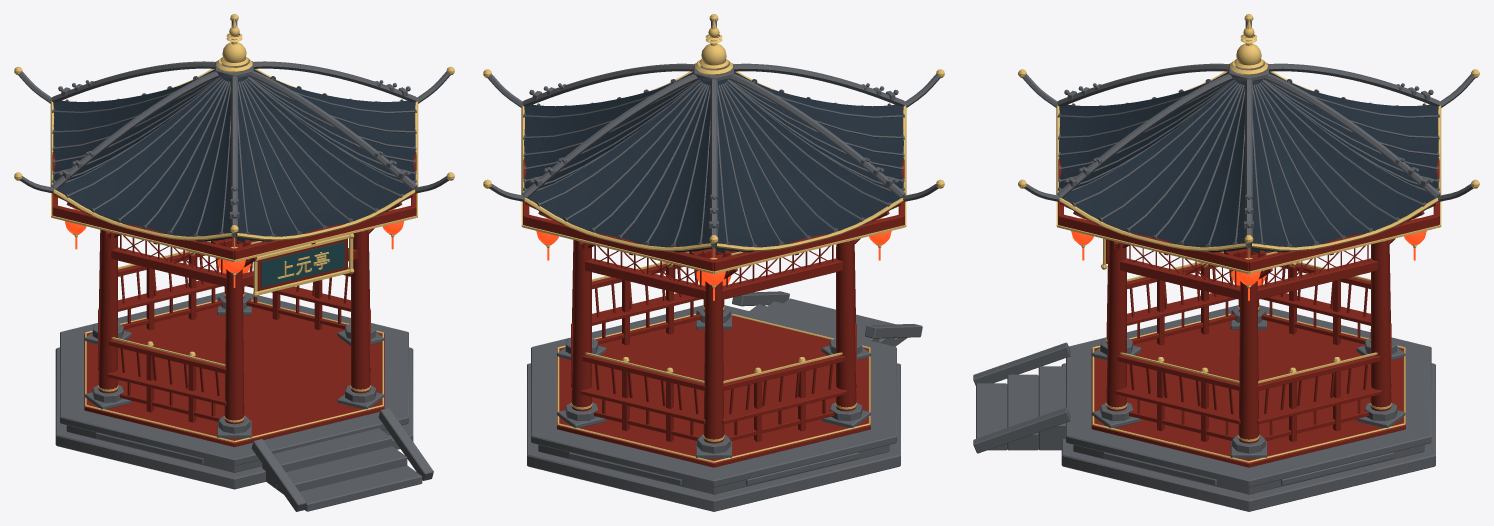
The model's file is SM_Env_Pavilion_Hex_01.glb.
3 views of the same model, side by side, from view 1: azimuth 30°, elevation 25°; view 2: azimuth 150°, elevation 25°; view 3: azimuth 270°, elevation 25° (orthographic). The views are drawn at different scales.
Visible parts, largest first — view 1: SM_Env_Pavilion_Hex_01; view 2: SM_Env_Pavilion_Hex_01; view 3: SM_Env_Pavilion_Hex_01.
Part boxes in pixels (<box>): SM_Env_Pavilion_Hex_01: <box>14,14,454,511</box>; SM_Env_Pavilion_Hex_01: <box>483,14,944,511</box>; SM_Env_Pavilion_Hex_01: <box>973,14,1479,511</box>.
Size of the model in its own units: 6.44 by 5.38 by 6.14.
